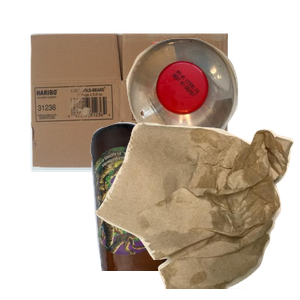cardboard: (28, 31, 249, 195)
glass: (88, 120, 252, 300)
plastic: (124, 36, 300, 175)
trash: (92, 120, 300, 300)
